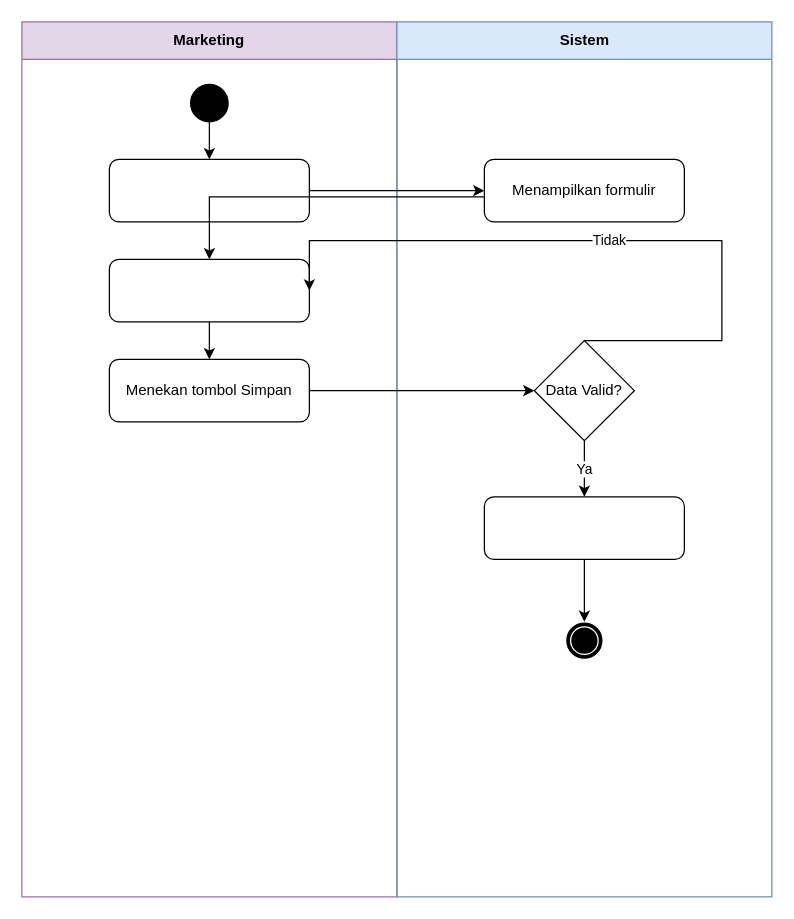
The diagram is 794 pixels wide and 919 high, and some of its shapes have lost their labels. The centre of each missing label's shape, as x and y in pixels:
"Mencatat organisasi baru" goes at [583,527].
"Menekan tombol Tambah Organisasi" goes at [208,190].
"Mengisi nama dan alamat perusahaan" goes at [208,290].
